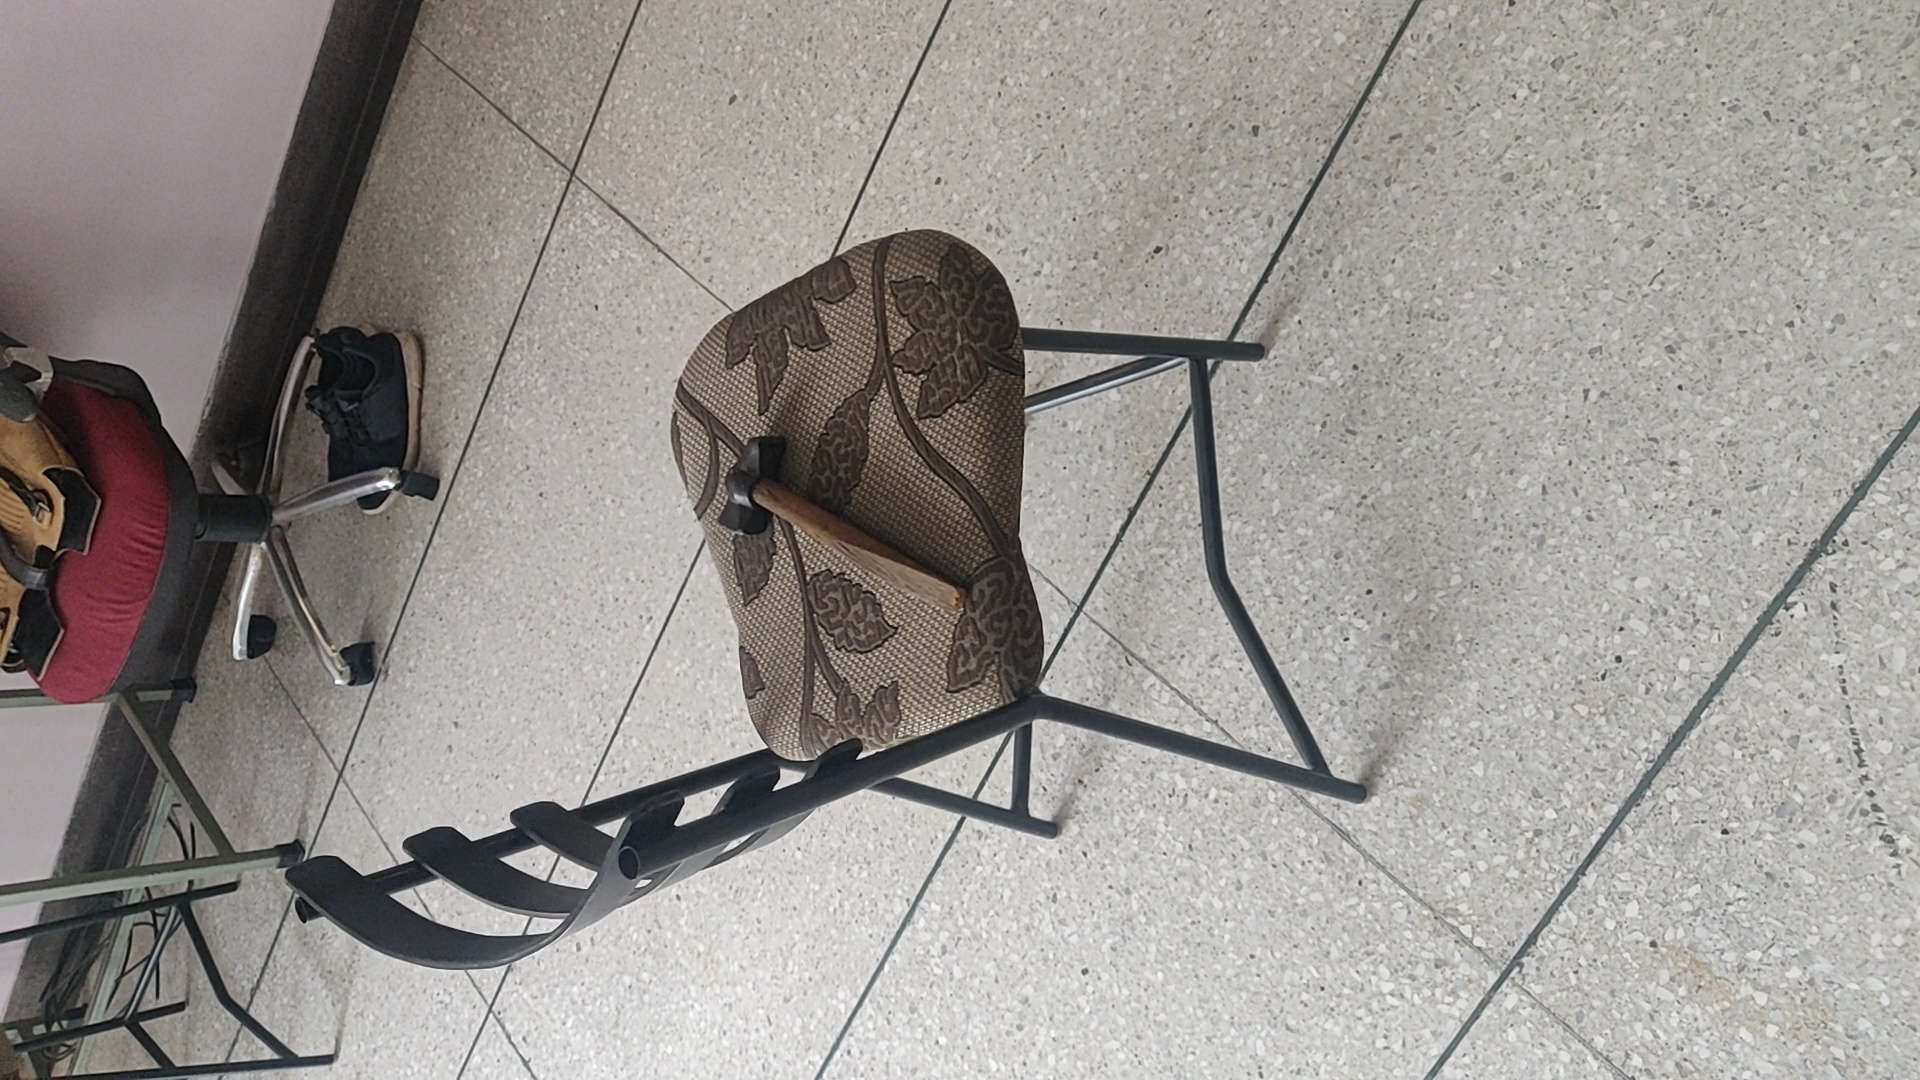hammer: (715, 431, 967, 628)
